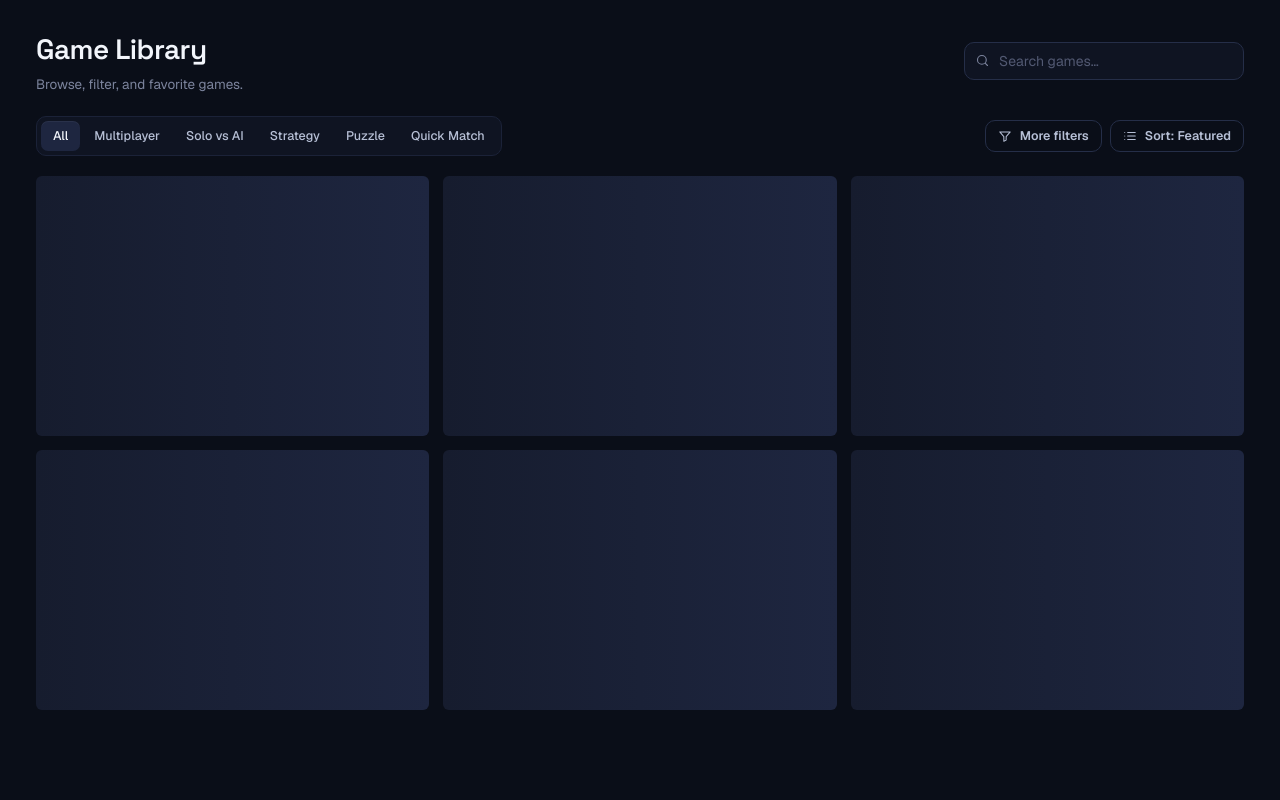
Test case: LibraryPage › debounces search input and cancels a stale response so it cannot overwrite a newer query
In the field with placeholder "Search games…": (1104,61) [964,42,1244,80], type "four"
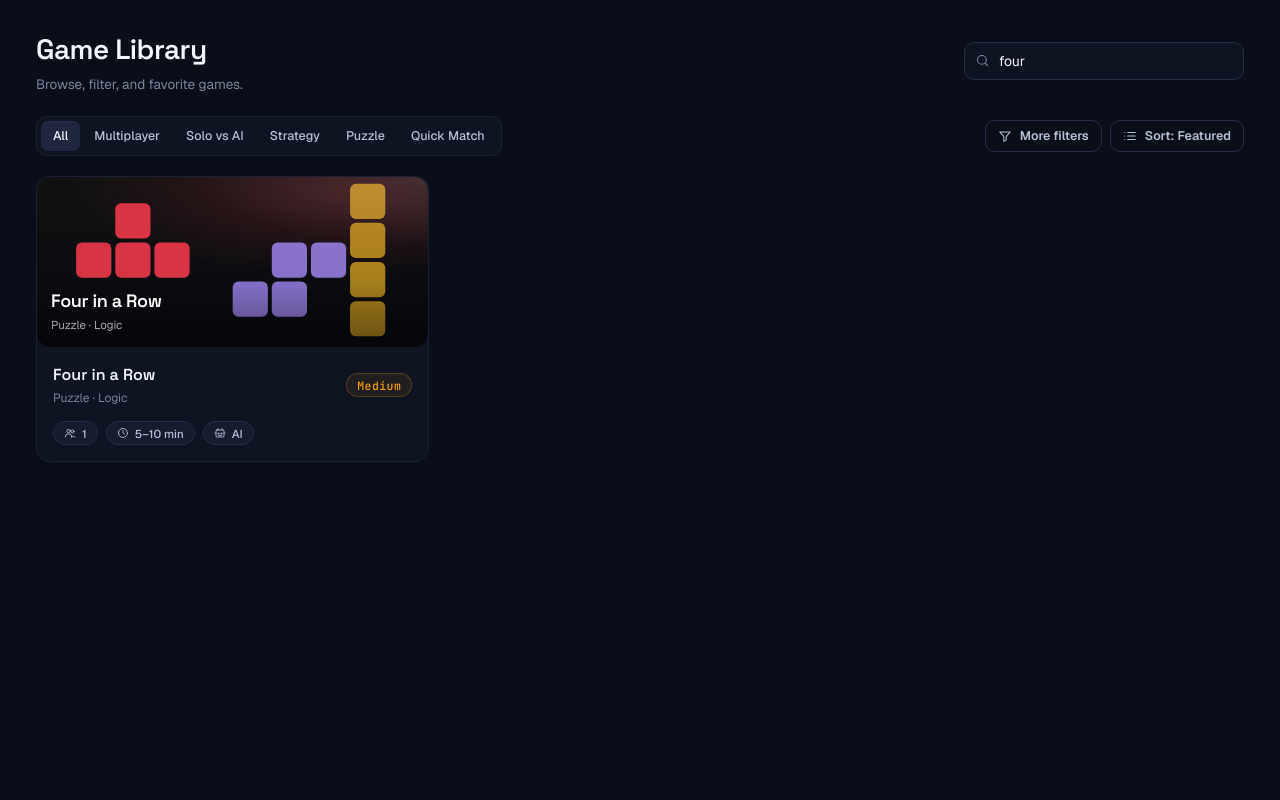
expect the 1st text "Four in a Row" is shown: met, box [51,289,162,312]
